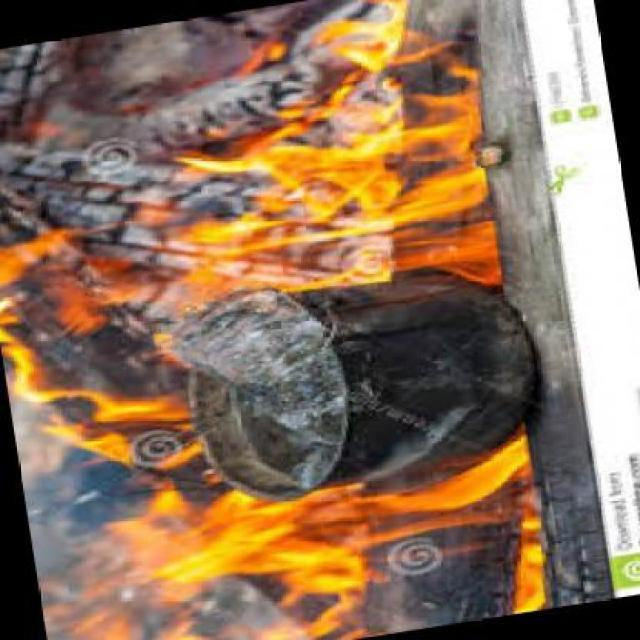Fire: (16, 14, 534, 283), (25, 312, 192, 596), (172, 496, 570, 608)
